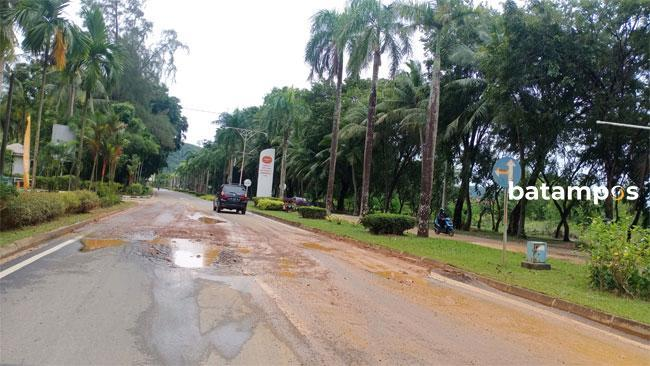Pothole: (361, 252, 454, 305), (155, 230, 258, 274), (263, 240, 312, 286), (80, 224, 129, 263), (289, 229, 343, 258), (189, 208, 233, 228)
